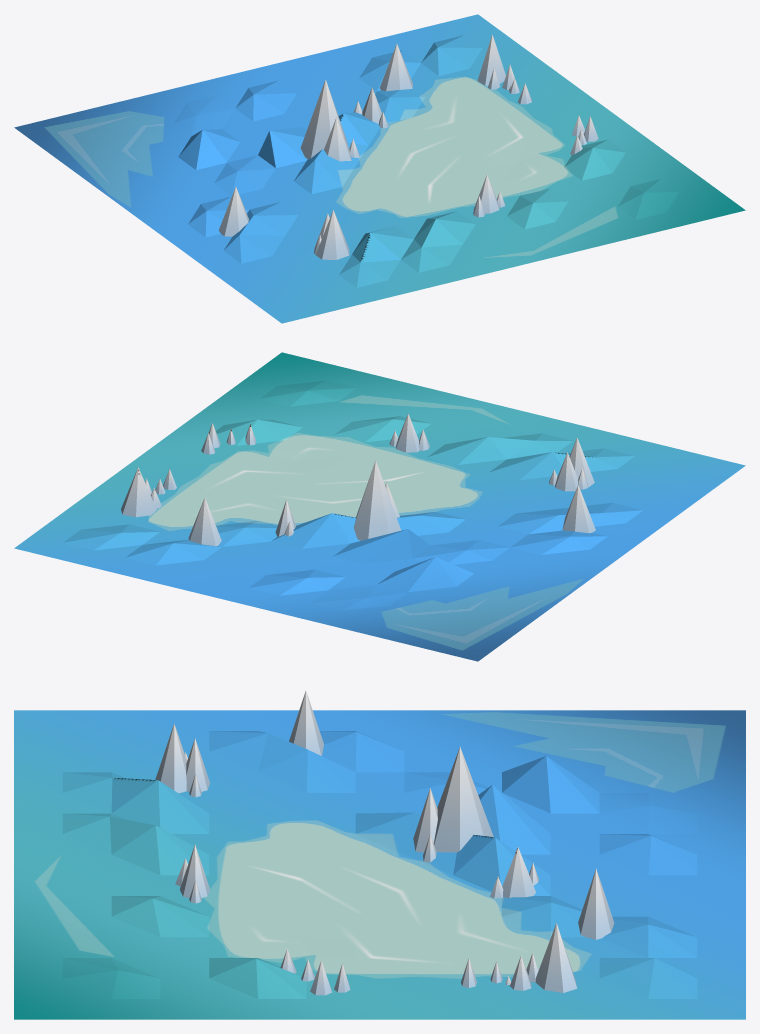
The model's file is Eiswelt.fbx.
The picture shows the model from 3 angles, top to bottom: view 1: azimuth 30°, elevation 25°; view 2: azimuth 150°, elevation 25°; view 3: azimuth 270°, elevation 25°; orthographic projection. The views are drawn at different scales.
Parts seen in each view (by area): view 1: Kegel_1; view 2: Kegel_1; view 3: Kegel_1.
Part boxes in pixels (x1=…): Kegel_1: x1=14, y1=14, x2=745, y2=323; Kegel_1: x1=14, y1=352, x2=745, y2=661; Kegel_1: x1=14, y1=691, x2=745, y2=1019.
Size of the model in its own units: 20000 by 3197 by 20000.
1 material, 1 textured.
